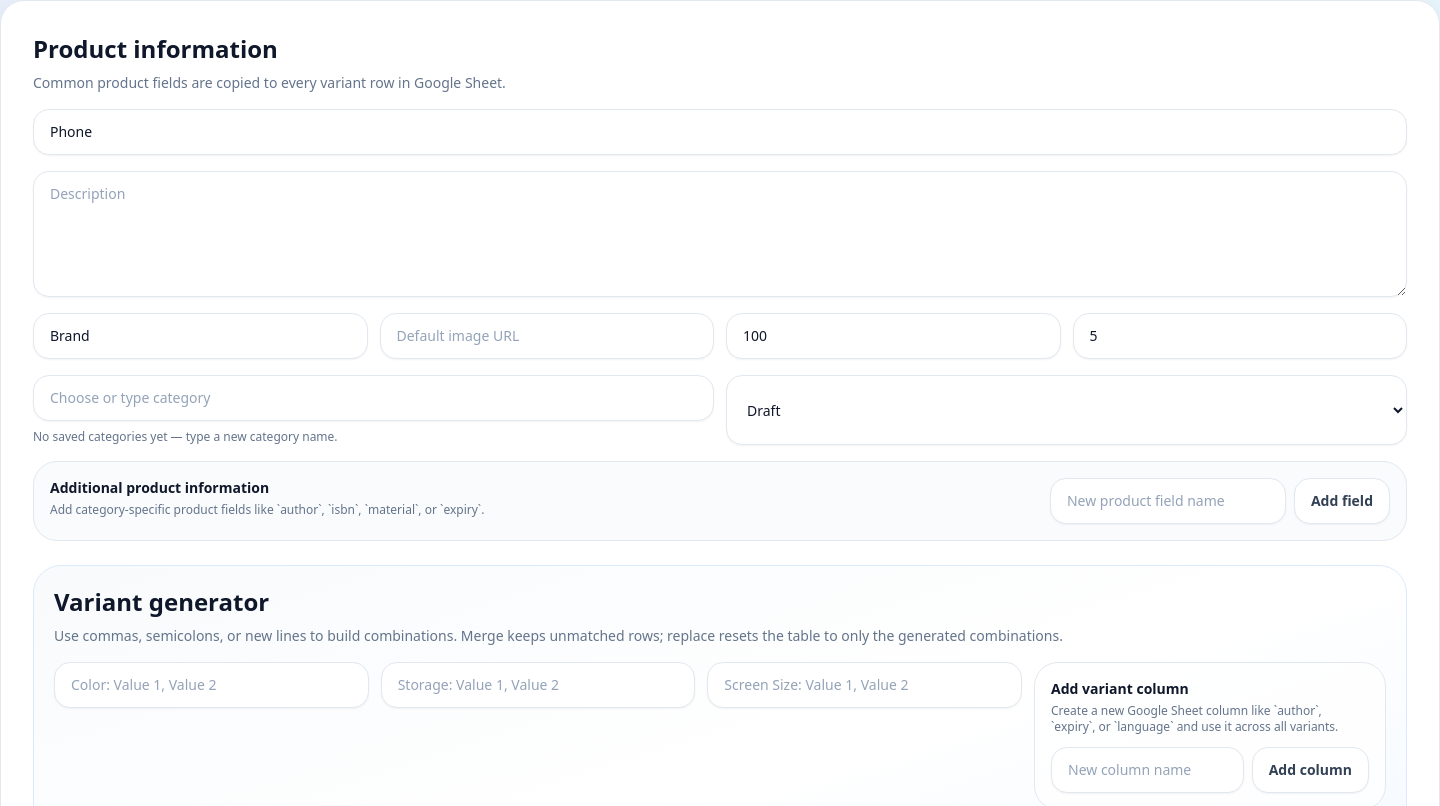
Test case: ProductForm category field › supports adding a custom product field for non-mobile categories
Type "Author" into the field with placeholder "New product field name".
click(1168, 501); type("Author")  # box top-left (1050, 478), bottom-right (1286, 524)
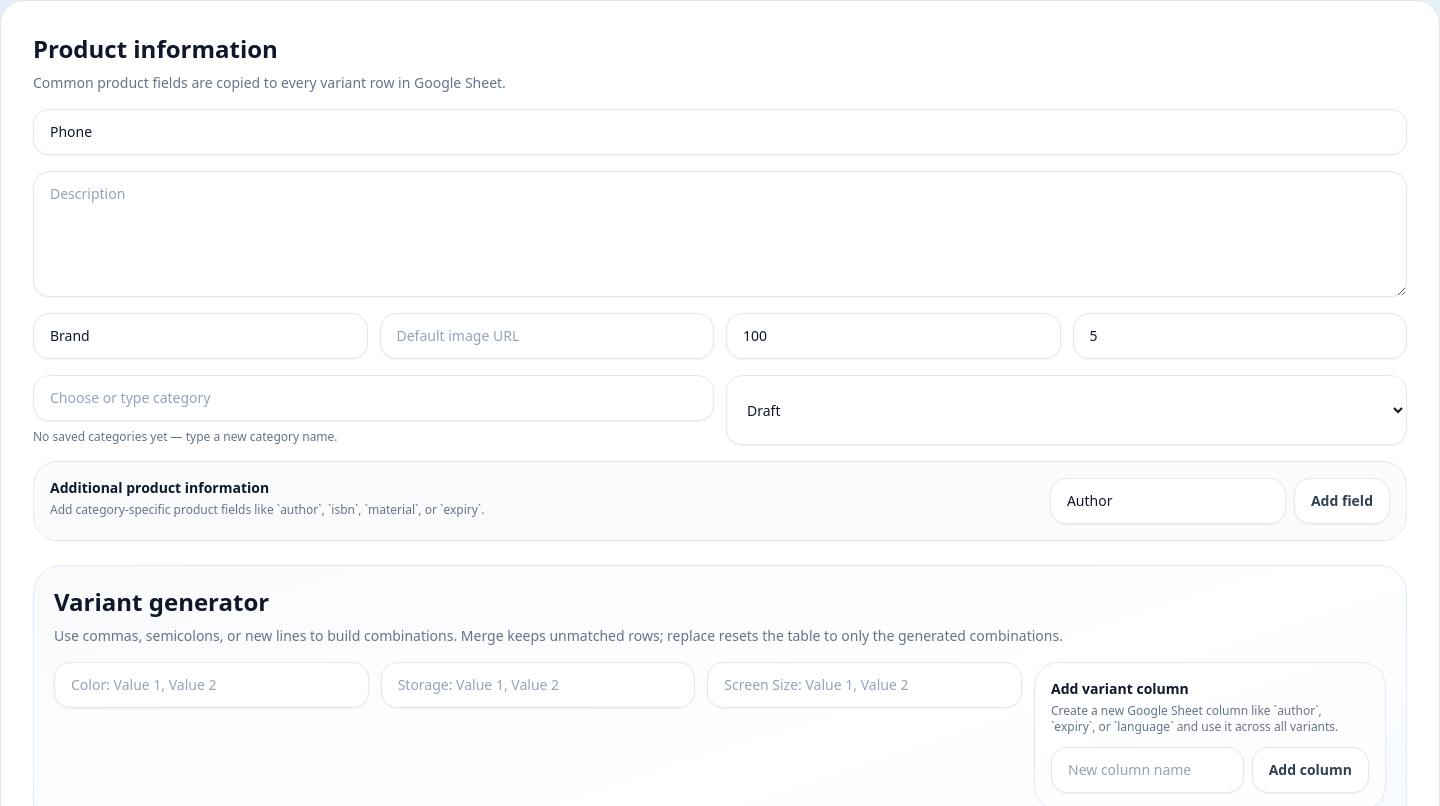
Click the button "Add field".
click(1342, 501)  # box top-left (1294, 478), bottom-right (1390, 524)
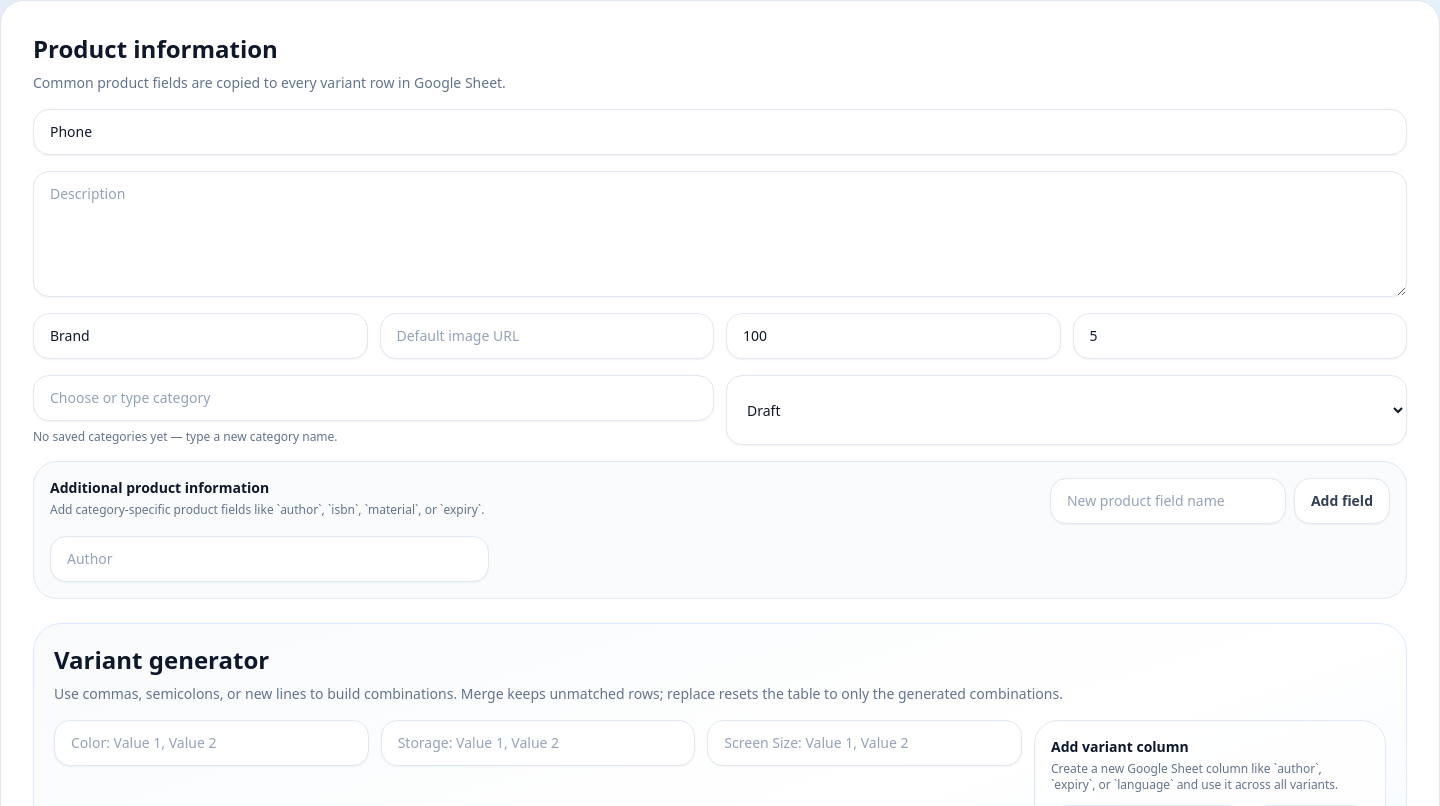
Expected: the field with placeholder "Author" is shown, top-left (50, 536), bottom-right (489, 582)
